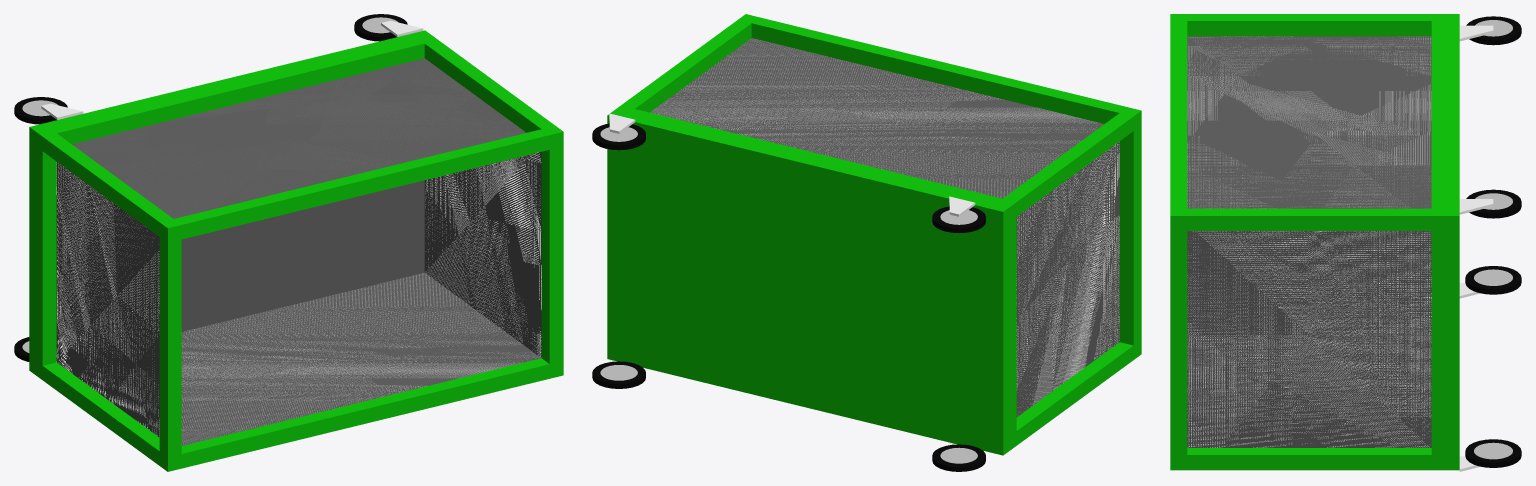
File: trolley.dae
3 views of the same model, side by side, from view 1: azimuth 30°, elevation 25°; view 2: azimuth 150°, elevation 25°; view 3: azimuth 270°, elevation 25° (orthographic). The views are drawn at different scales.
Parts seen in each view (by area): view 1: coords_ME_ID137_MA_material_10, coords_ME_ID11_MA_material_4, coords_ME_ID137_MA_material, coords_ME_ID51_MA_material_4, coords_ME_ID31_MA_material_8, coords_ME_ID25_MA_material_8; view 2: coords_ME_ID11_MA_material_4, coords_ME_ID137_MA_material_10, coords_ME_ID137_MA_material, coords_ME_ID51_MA_material_4, coords_ME_ID3_MA_material_8, coords_ME_ID19_MA_material_8, coords_ME_ID25_MA_material_8, coords_ME_ID31_MA_material_8; view 3: coords_ME_ID137_MA_material_10, coords_ME_ID11_MA_material_4, coords_ME_ID137_MA_material, coords_ME_ID51_MA_material_4, coords_ME_ID3_MA_material_8, coords_ME_ID19_MA_material_8, coords_ME_ID31_MA_material_8, coords_ME_ID25_MA_material_8, coords_ME_ID119_MA_material_11, coords_ME_ID101_MA_material_11, coords_ME_ID37_MA_material, coords_ME_ID57_MA_material (+2 smaller).
Boxes of the visible parts, box(x1,y1,x2,y2) form: coords_ME_ID137_MA_material_10: box(56, 58, 541, 445); coords_ME_ID11_MA_material_4: box(29, 30, 563, 471); coords_ME_ID137_MA_material: box(56, 60, 541, 444); coords_ME_ID51_MA_material_4: box(42, 43, 549, 453); coords_ME_ID31_MA_material_8: box(354, 14, 407, 41); coords_ME_ID25_MA_material_8: box(14, 97, 67, 124); coords_ME_ID11_MA_material_4: box(607, 14, 1141, 455); coords_ME_ID137_MA_material_10: box(650, 38, 1119, 416); coords_ME_ID137_MA_material: box(650, 39, 1119, 404); coords_ME_ID51_MA_material_4: box(635, 23, 1133, 430); coords_ME_ID3_MA_material_8: box(592, 361, 645, 388); coords_ME_ID19_MA_material_8: box(932, 444, 985, 471); coords_ME_ID25_MA_material_8: box(932, 206, 985, 232); coords_ME_ID31_MA_material_8: box(592, 123, 645, 150); coords_ME_ID137_MA_material_10: box(1187, 36, 1431, 447); coords_ME_ID11_MA_material_4: box(1170, 14, 1459, 470); coords_ME_ID137_MA_material: box(1187, 36, 1431, 447); coords_ME_ID51_MA_material_4: box(1187, 21, 1431, 454); coords_ME_ID3_MA_material_8: box(1465, 439, 1521, 467); coords_ME_ID19_MA_material_8: box(1465, 266, 1521, 294); coords_ME_ID31_MA_material_8: box(1466, 189, 1521, 218); coords_ME_ID25_MA_material_8: box(1466, 16, 1521, 45); coords_ME_ID119_MA_material_11: box(1474, 442, 1512, 459); coords_ME_ID101_MA_material_11: box(1474, 269, 1512, 285); coords_ME_ID37_MA_material: box(1459, 25, 1493, 41); coords_ME_ID57_MA_material: box(1459, 199, 1493, 214).
Size of the model in its own units: 13.39 by 8.03 by 9.84.
